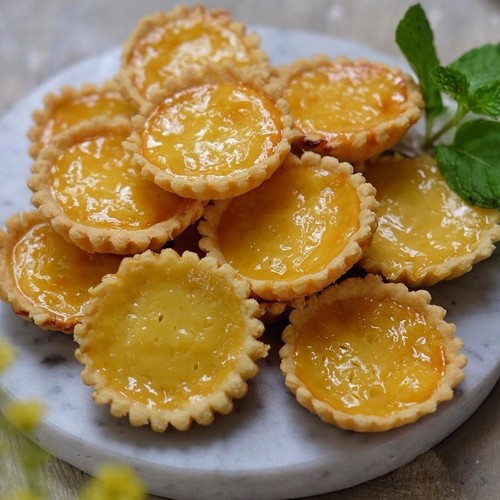pie susu: (62, 251, 276, 448), (278, 272, 474, 445), (28, 119, 213, 251), (224, 152, 386, 290), (354, 139, 500, 285), (139, 70, 289, 212), (266, 42, 423, 169)
